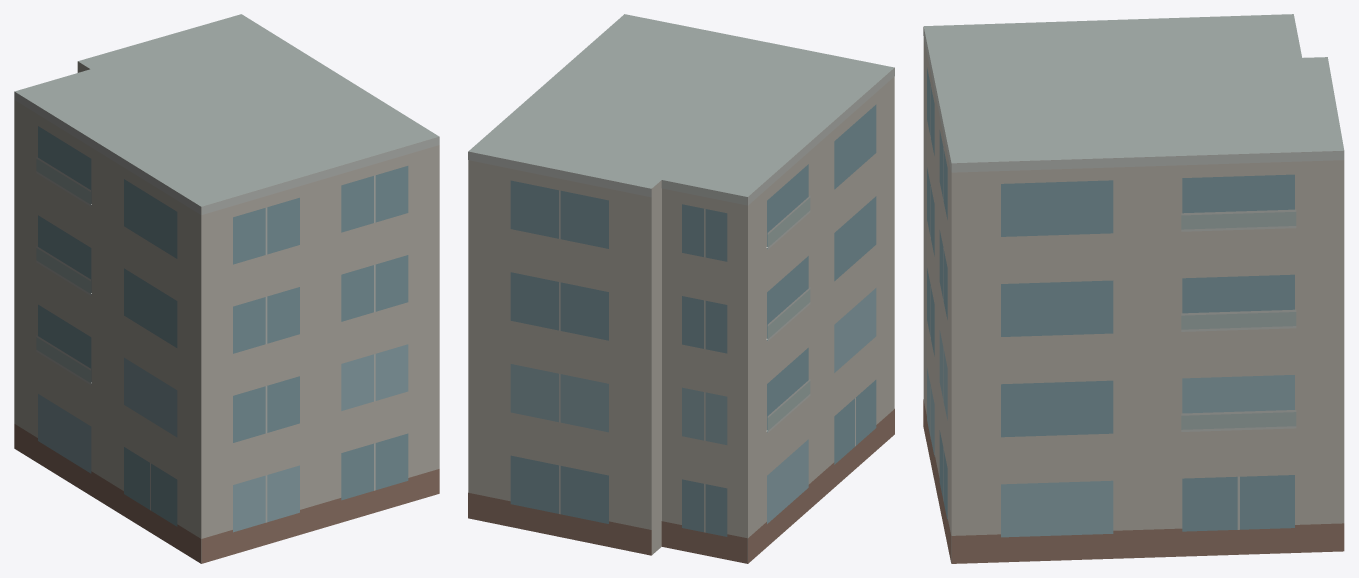
File: survey-upis-32932165.glb
The picture shows the model from 3 angles, left to right: view 1: azimuth 30°, elevation 25°; view 2: azimuth 150°, elevation 25°; view 3: azimuth 270°, elevation 25°; orthographic projection. The views are drawn at different scales.
Visible parts, largest first — view 1: survey-upis-32932165.tmp; view 2: survey-upis-32932165.tmp; view 3: survey-upis-32932165.tmp.
Boxes of the visible parts, bbox=[...] form: survey-upis-32932165.tmp: bbox=[14, 14, 439, 563]; survey-upis-32932165.tmp: bbox=[468, 14, 894, 563]; survey-upis-32932165.tmp: bbox=[923, 14, 1344, 563].
Bounding box in the file's own units: 8.32 × 10.4 × 9.91.
